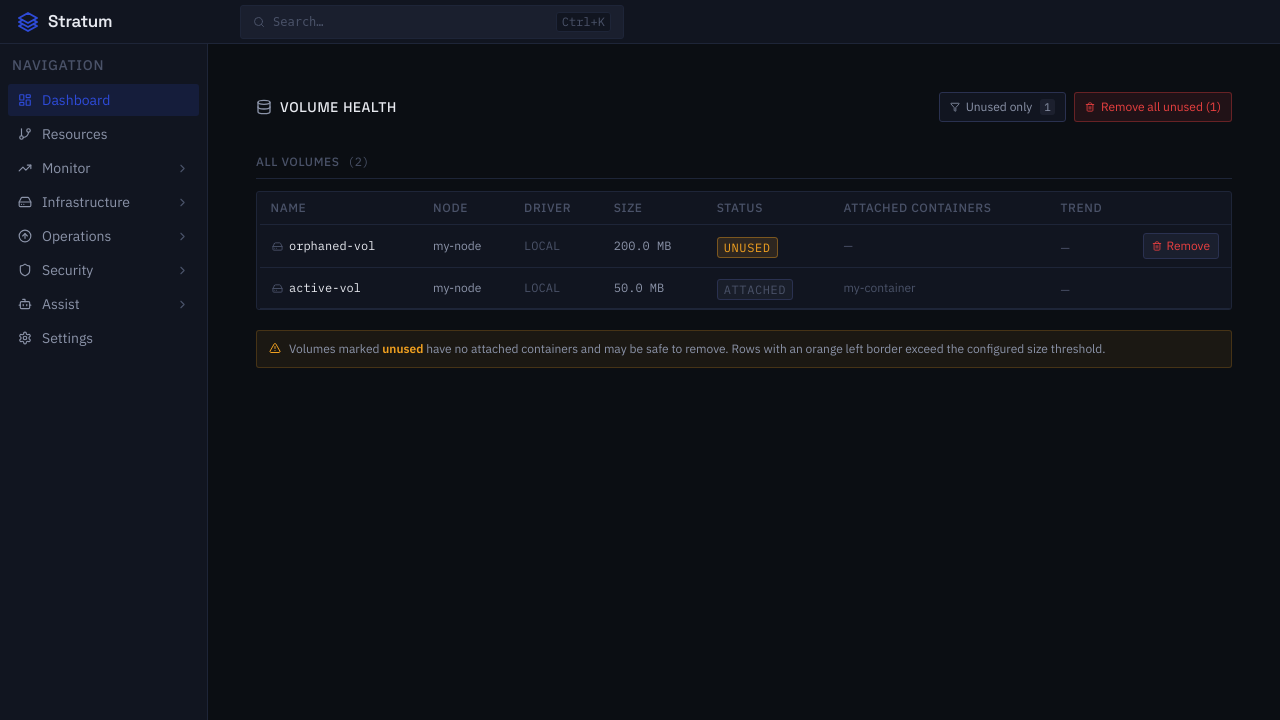
Scenario: Volumes page — bulk prune "Remove all unused" gate › should show the prune confirmation dialog when "Remove all unused" is clicked
Click the button "Remove all unused (1)".
click(1153, 107)  # box [1074,92,1232,122]
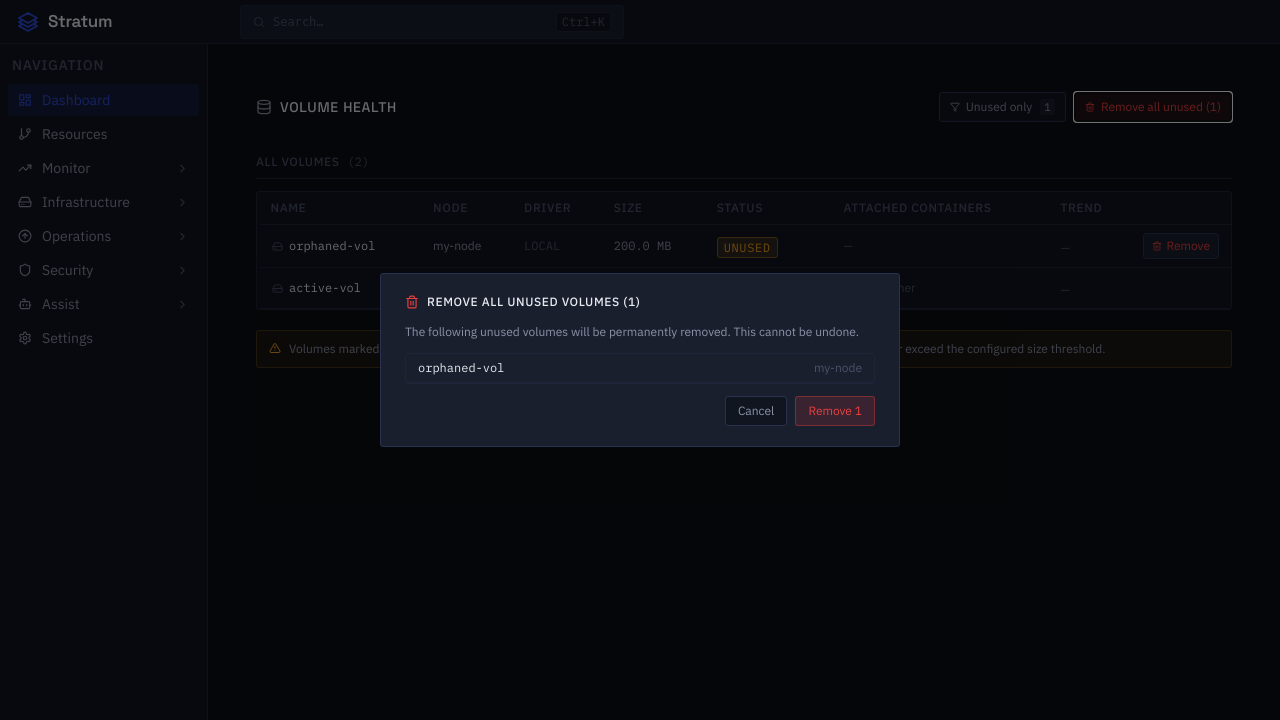
Expected: the text "Remove All Unused Volumes (1)" is shown, [427,294,640,310]
